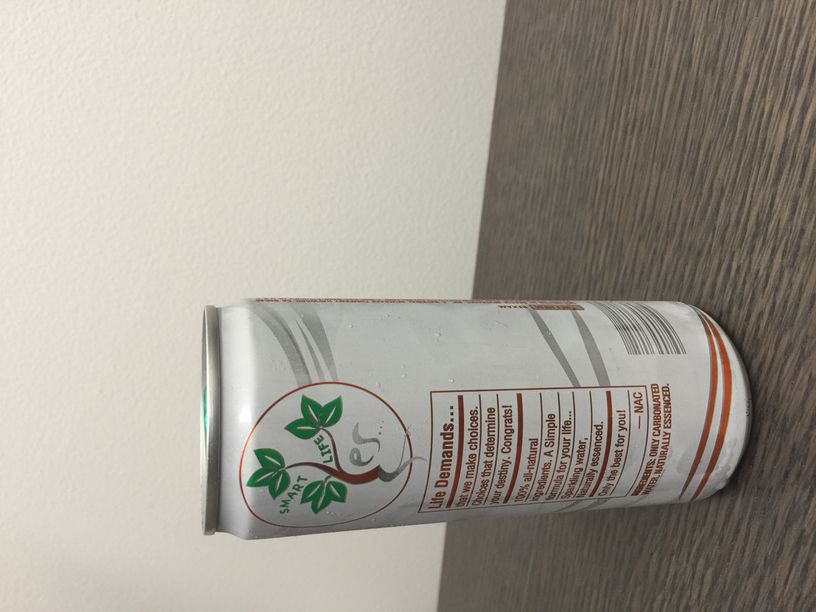competitor_01: (227, 328, 718, 533)
